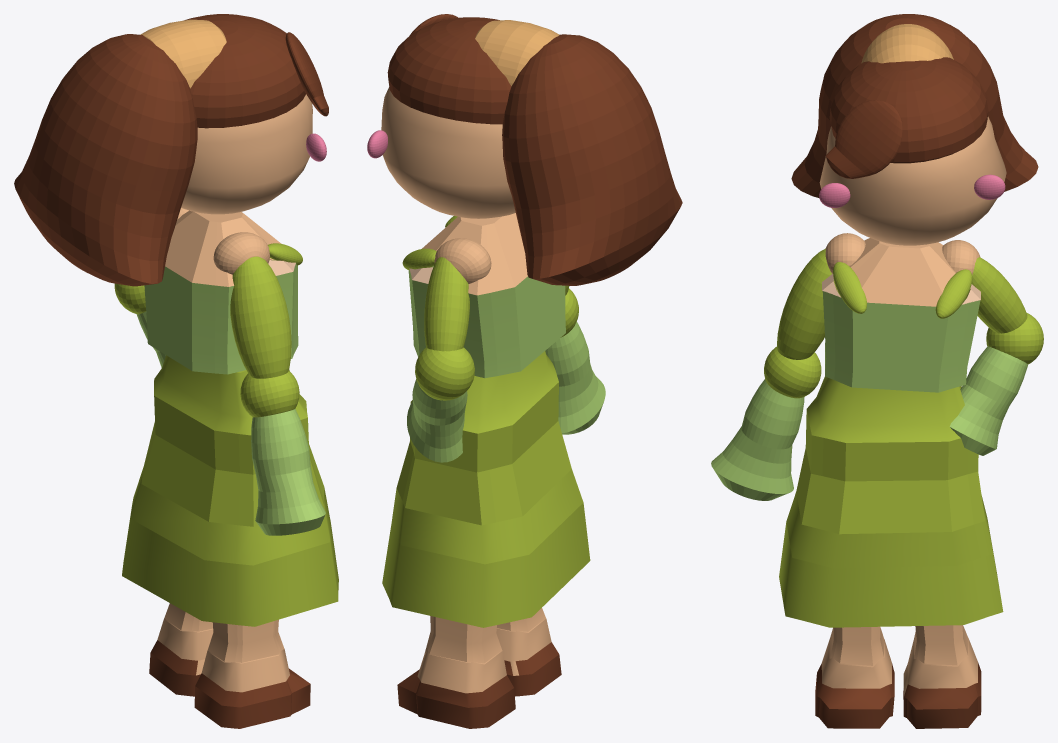
File: leaning girl l.fbx
3 views of the same model, side by side, from view 1: azimuth 30°, elevation 25°; view 2: azimuth 150°, elevation 25°; view 3: azimuth 270°, elevation 25° (orthographic). The views are drawn at different scales.
Visible parts, largest first — view 1: trousers.020, Sphere.248, Sphere.245, Sphere.249, Cube.068, Sphere.256, Sphere.259, Cube.065, Cube.069, Cube.066, Torus.035, Cube.067 (+6 smaller); view 2: trousers.020, Sphere.248, Sphere.245, Sphere.249, Cube.068, Cube.067, Cube.064, Cube.069, Sphere.256, Sphere.252, Sphere.257, Torus.035 (+5 smaller); view 3: trousers.020, Cube.068, Sphere.245, Sphere.249, Sphere.248, Sphere.256, Cube.069, Sphere.257, Sphere.250, Cube.067, Cube.065, Sphere.259 (+9 smaller).
Part boxes in pixels (x1,y1,x2,y2): trousers.020: (122, 355, 338, 626); Sphere.248: (14, 34, 197, 286); Sphere.245: (181, 94, 312, 214); Sphere.249: (184, 14, 305, 128); Cube.068: (144, 259, 298, 374); Sphere.256: (251, 409, 325, 535); Sphere.259: (230, 256, 291, 378); Cube.065: (201, 619, 289, 692); Cube.069: (165, 210, 290, 286); Cube.066: (194, 668, 310, 728); Torus.035: (140, 19, 226, 88); Cube.067: (157, 603, 213, 675); trousers.020: (382, 351, 590, 627); Sphere.248: (502, 34, 682, 285); Sphere.245: (381, 87, 515, 218); Sphere.249: (387, 17, 511, 124); Cube.068: (408, 266, 565, 378); Cube.067: (417, 616, 506, 693); Cube.064: (397, 669, 515, 728); Cube.069: (422, 213, 527, 295); Sphere.256: (545, 322, 605, 434); Sphere.252: (424, 257, 469, 351); Sphere.257: (407, 379, 467, 462); Torus.035: (475, 20, 559, 86); trousers.020: (779, 376, 1003, 627); Cube.068: (822, 291, 980, 392); Sphere.245: (819, 116, 1006, 245); Sphere.249: (829, 57, 988, 163); Sphere.248: (791, 14, 1038, 197); Sphere.256: (711, 379, 804, 500); Cube.069: (834, 238, 955, 306); Sphere.257: (949, 346, 1027, 455); Sphere.250: (825, 100, 902, 178); Cube.067: (903, 625, 977, 695); Cube.065: (821, 626, 891, 688); Sphere.259: (777, 248, 839, 359).
Size of the model in its own units: 275 by 692 by 320.
